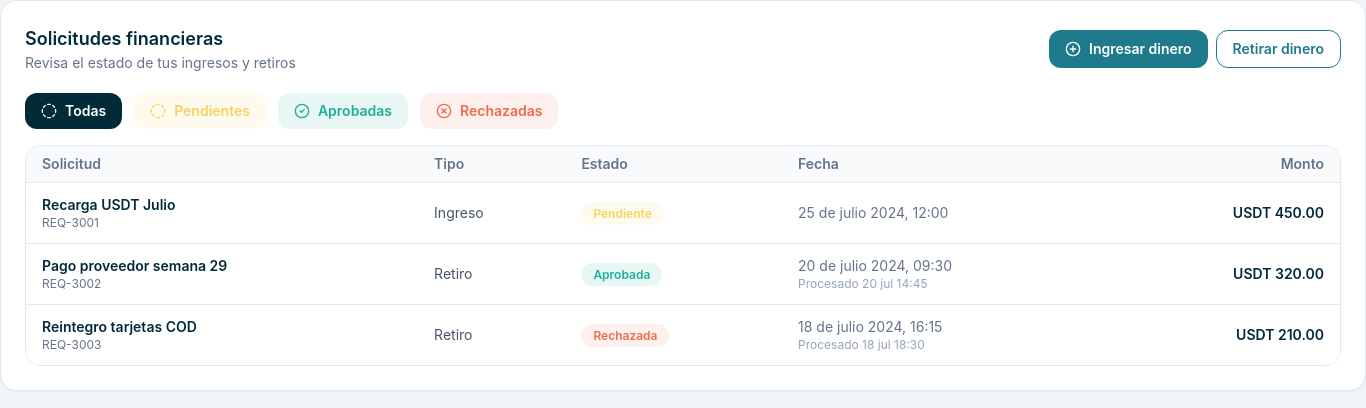
Scenario: RequestsPage › filtra las solicitudes por estado
Expected: the number of rows is 4, top-left (26, 146), bottom-right (1340, 182); top-left (26, 182), bottom-right (1340, 244); top-left (26, 244), bottom-right (1340, 304); top-left (26, 304), bottom-right (1340, 365)
What coordinates should you click on to do the following:
click the button "Pendientes"
I would click on:
 (200, 111)
Its box is top-left (134, 93), bottom-right (266, 129).
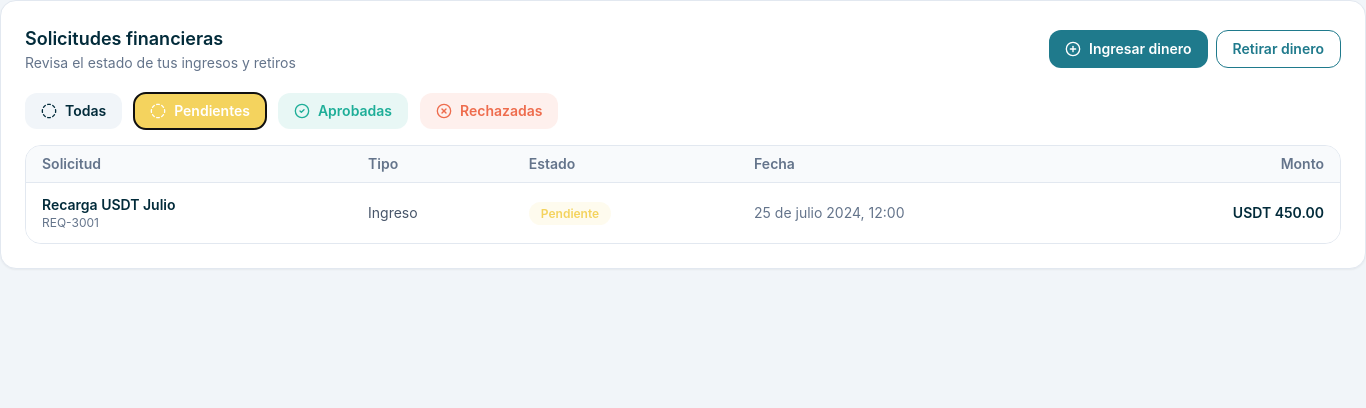
Expected: the number of rows is 2, top-left (26, 146), bottom-right (1340, 182); top-left (26, 182), bottom-right (1340, 243)
Expected: the text "Recarga USDT Julio" is shown, top-left (42, 196), bottom-right (176, 213)
What coordinates should you click on to do the following:
click the button "Aprobadas"
I would click on:
 (343, 111)
Its box is top-left (278, 93), bottom-right (408, 129).
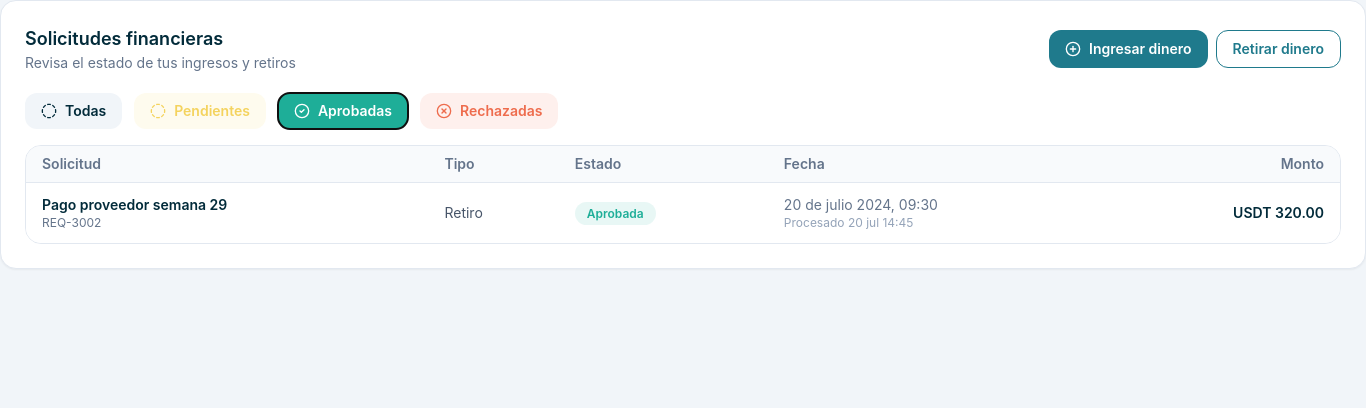
Expected: the number of rows is 2, top-left (26, 146), bottom-right (1340, 182); top-left (26, 182), bottom-right (1340, 243)
Expected: the text "Pago proveedor semana 29" is shown, top-left (42, 196), bottom-right (227, 213)
